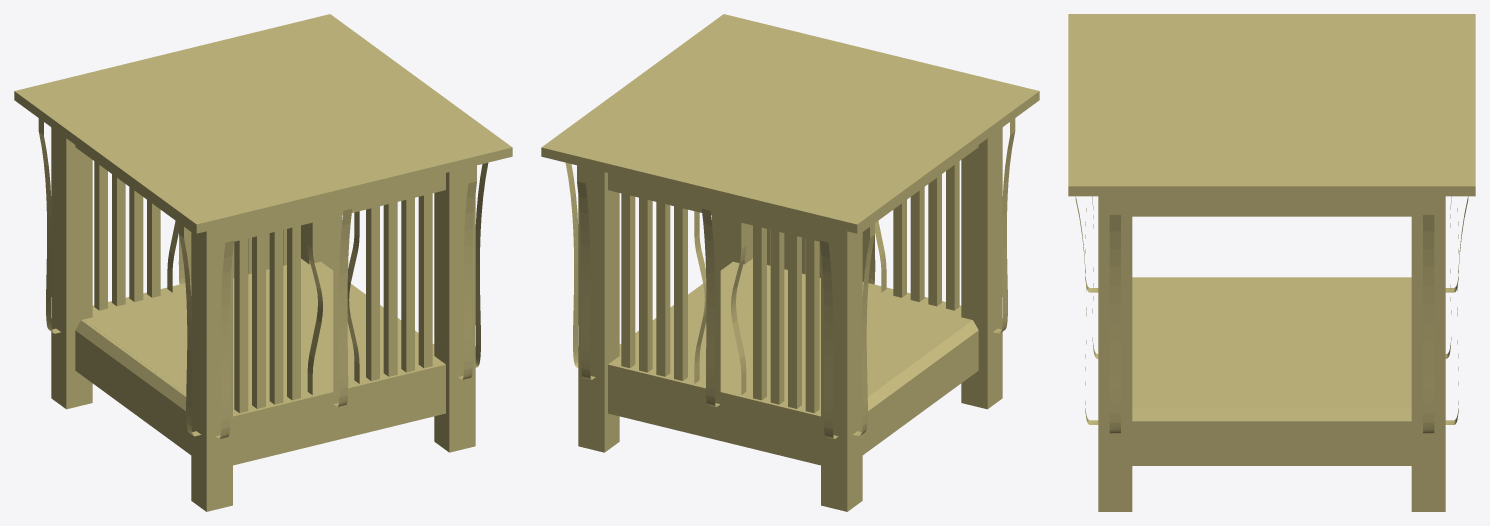
Rendered from desk.glb.
The picture shows the model from 3 angles, left to right: view 1: azimuth 30°, elevation 25°; view 2: azimuth 150°, elevation 25°; view 3: azimuth 270°, elevation 25°; orthographic projection. The views are drawn at different scales.
Parts seen in each view (by area): view 1: desk; view 2: desk; view 3: desk.
Boxes of the visible parts, bbox=[...] form: desk: bbox=[14, 14, 512, 511]; desk: bbox=[541, 14, 1039, 511]; desk: bbox=[1068, 14, 1475, 511].
Bounding box in the file's own units: 24.49 × 22.45 × 24.49.
